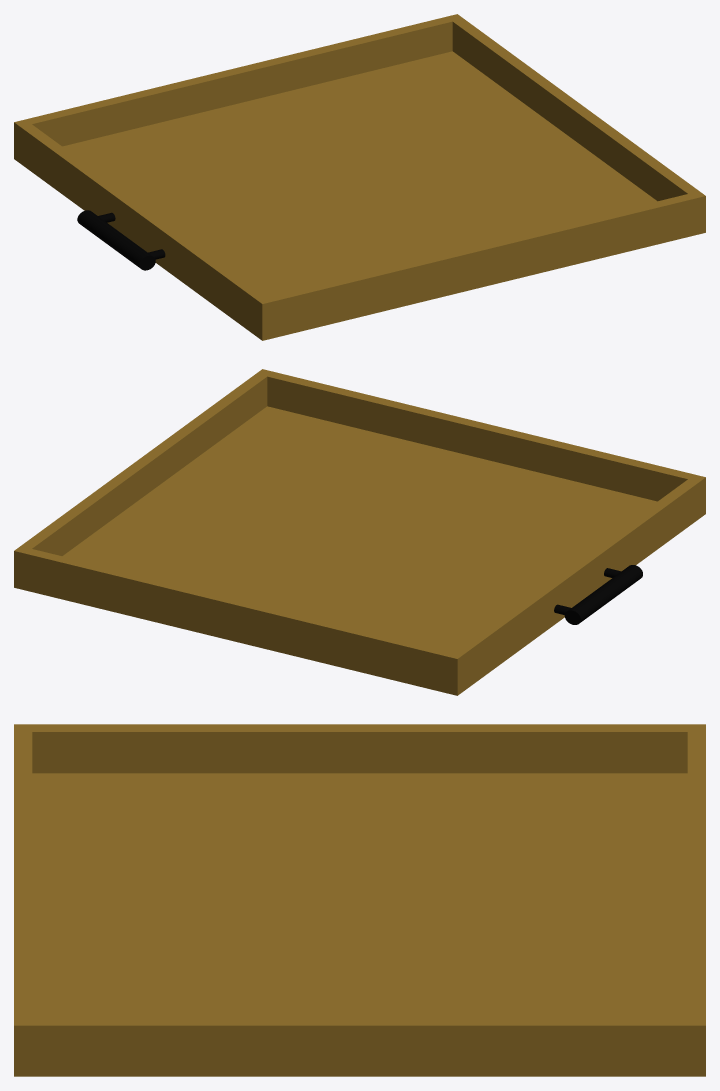
The model's file is puerta inferior.fbx.
3 renders of one model, top to bottom at view 1: azimuth 30°, elevation 25°; view 2: azimuth 150°, elevation 25°; view 3: azimuth 270°, elevation 25°, orthographic. The views are drawn at different scales.
Visible parts, largest first — view 1: Box052; view 2: Box052; view 3: Box052.
Part boxes in pixels (bbox=[...]): Box052: bbox=[14, 14, 705, 340]; Box052: bbox=[14, 369, 705, 695]; Box052: bbox=[14, 724, 705, 1076].
Bounding box in the file's own units: 80.6 × 5.99 × 73.26.
